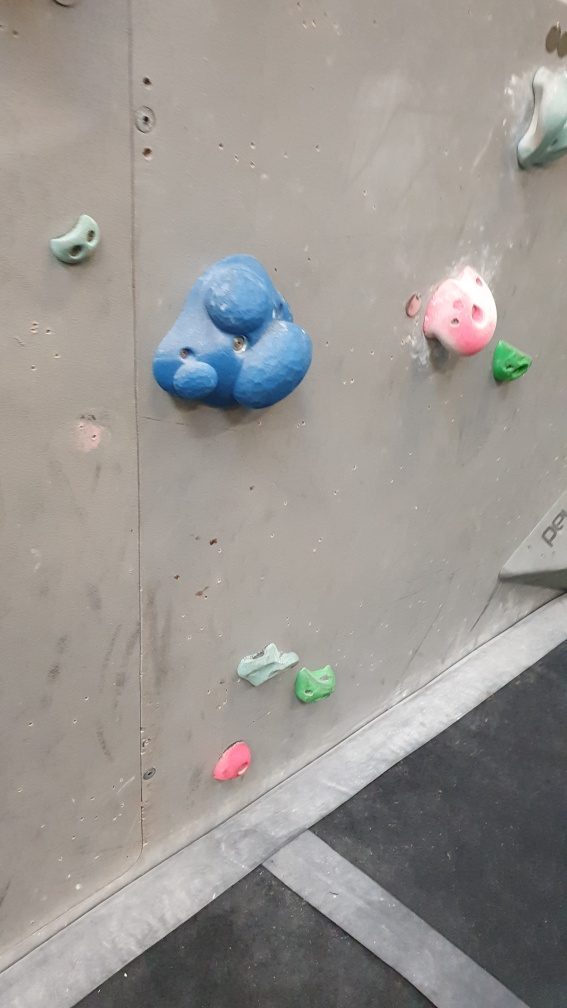Sloper: (157, 252, 316, 413)
